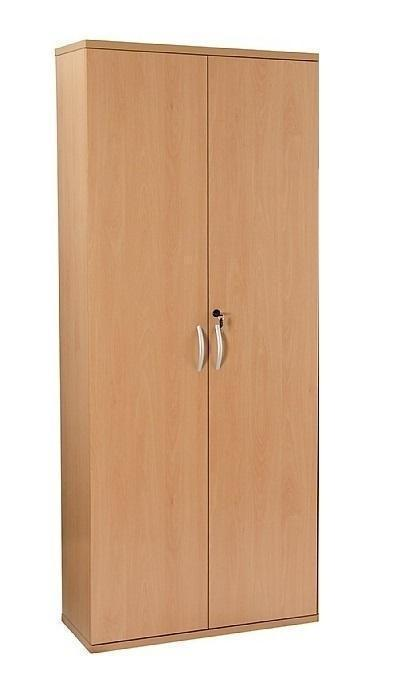Armario: (51, 36, 327, 648)
